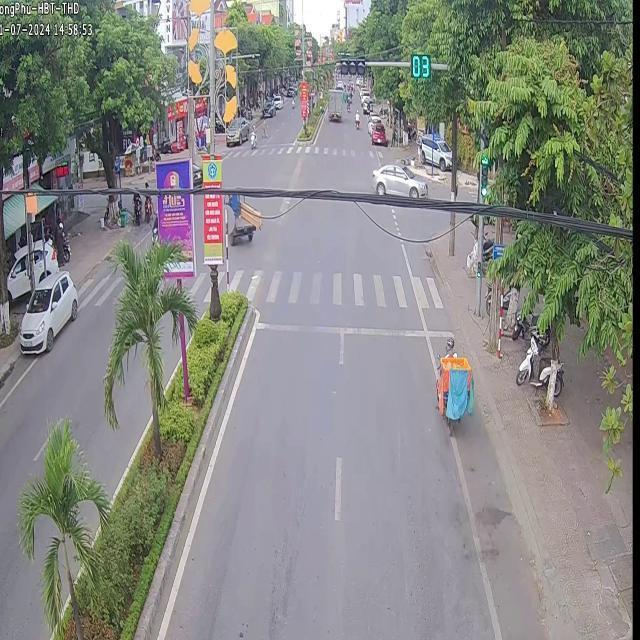car: (18, 269, 77, 351), (370, 162, 426, 196), (224, 194, 259, 245)
green_light: (409, 53, 431, 79), (479, 148, 489, 202)
motobike: (436, 336, 472, 425)
stop_line: (255, 320, 424, 345)
